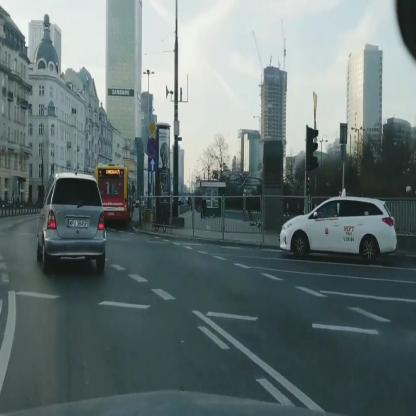cars: (281, 194, 397, 264), (37, 175, 106, 271)
